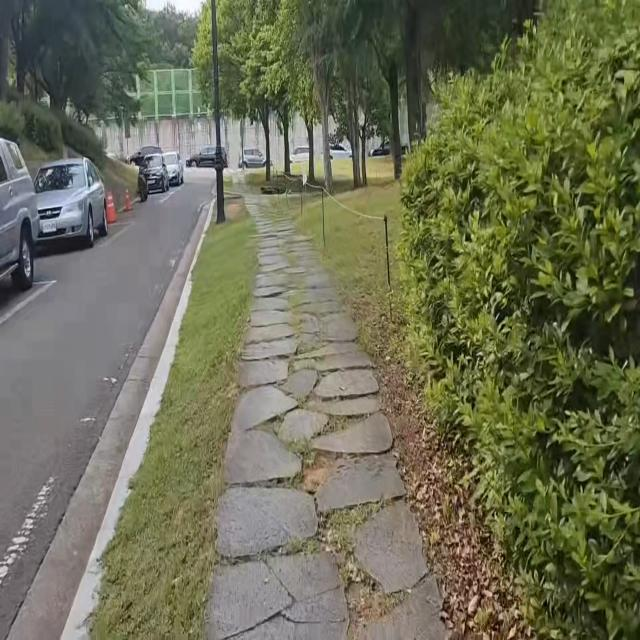obstacle: (28, 148, 117, 255), (0, 127, 49, 320), (120, 141, 192, 201), (211, 0, 230, 227)
road: (0, 182, 214, 640)
sidewalk: (67, 199, 485, 640)
